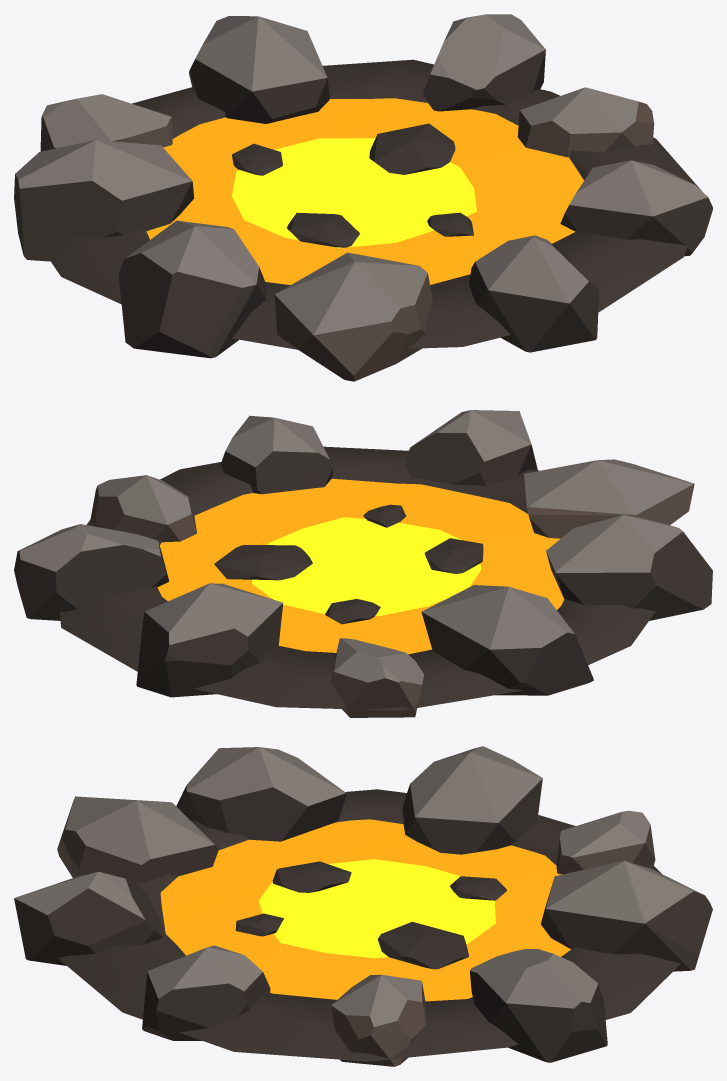
Rendered from lava_pool_rim.glb.
The picture shows the model from 3 angles, top to bottom: view 1: azimuth 30°, elevation 25°; view 2: azimuth 150°, elevation 25°; view 3: azimuth 270°, elevation 25°; orthographic projection. The views are drawn at different scales.
Visible parts, largest first — view 1: lava_pool_rim; view 2: lava_pool_rim; view 3: lava_pool_rim.
Part boxes in pixels (box(x1,y1,x2,y2)): lava_pool_rim: box(14, 14, 712, 381); lava_pool_rim: box(14, 410, 712, 717); lava_pool_rim: box(14, 746, 712, 1066).
Size of the model in its own units: 2.61 by 0.3982 by 2.81.
